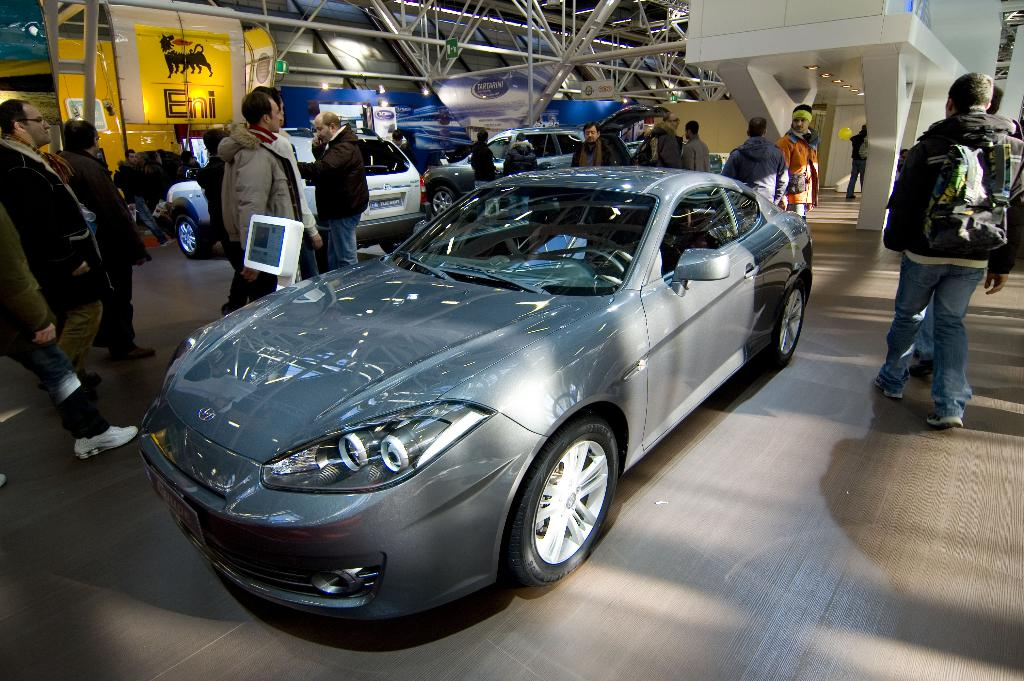Car: (128, 156, 812, 629), (159, 127, 425, 262), (425, 123, 588, 209), (625, 142, 641, 156)
